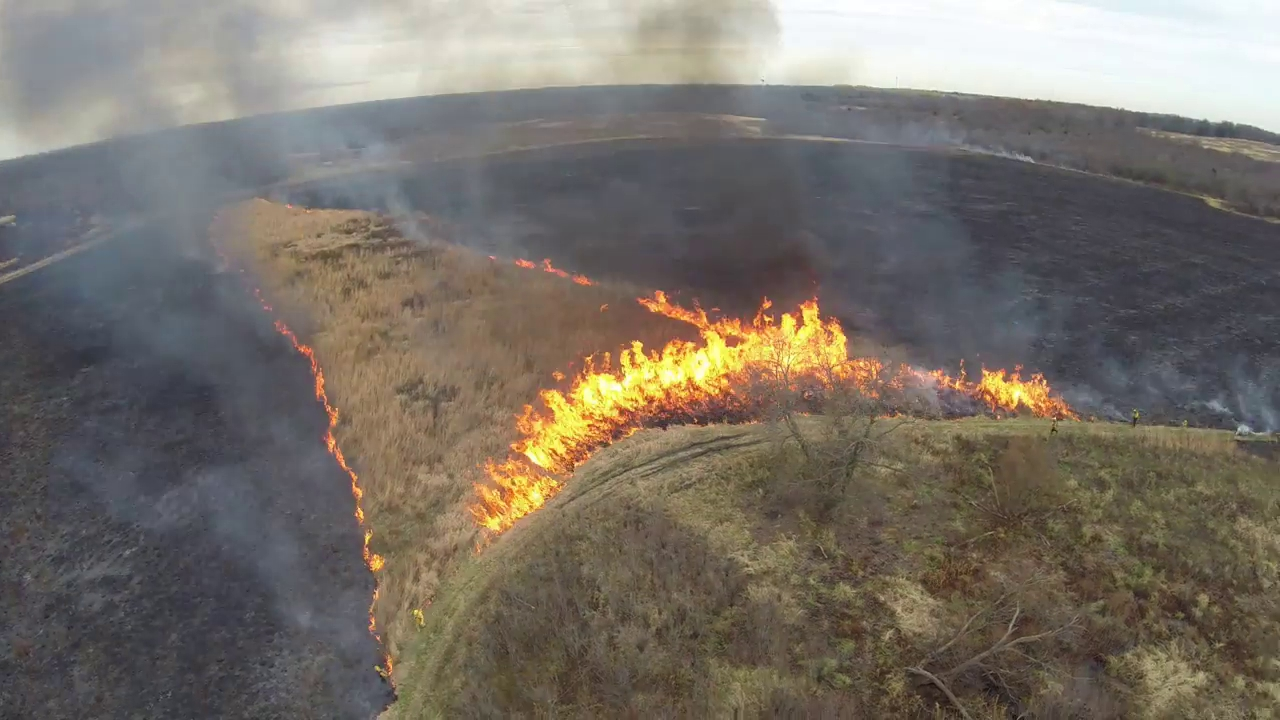forest_fire: (471, 291, 1075, 532), (247, 283, 394, 689), (487, 255, 596, 285), (997, 369, 1049, 391)
